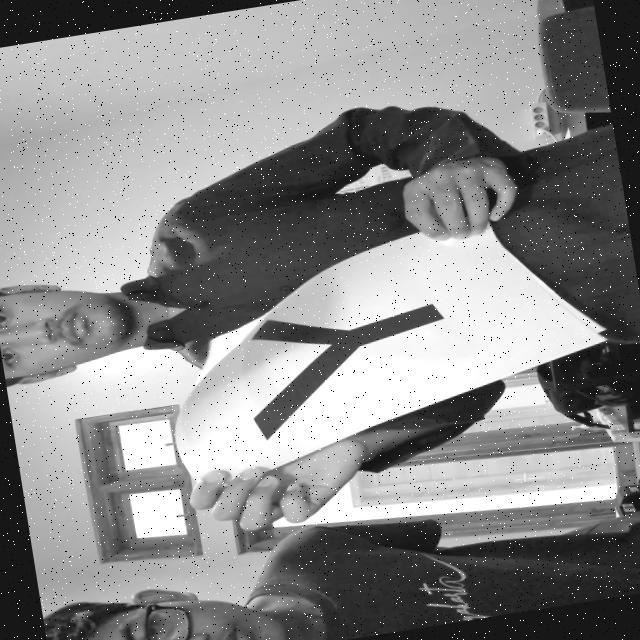y: (226, 279, 470, 445)
